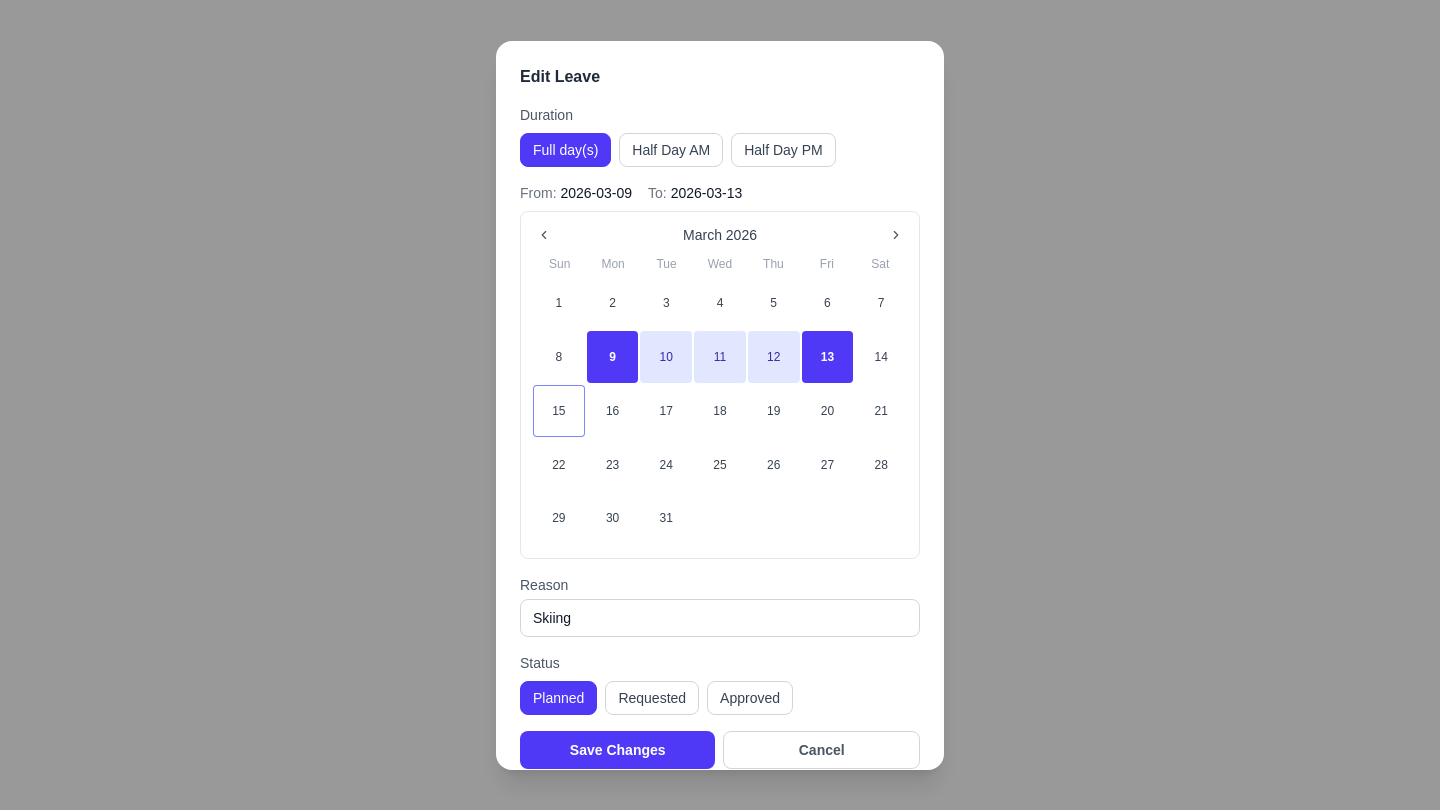
EditLeaveModal — allowance limit validation › shows the limit warning when editing an entry to be longer than the allowance permits
Click the button named "2026-03-16": (613, 411) [587,385,638,437]
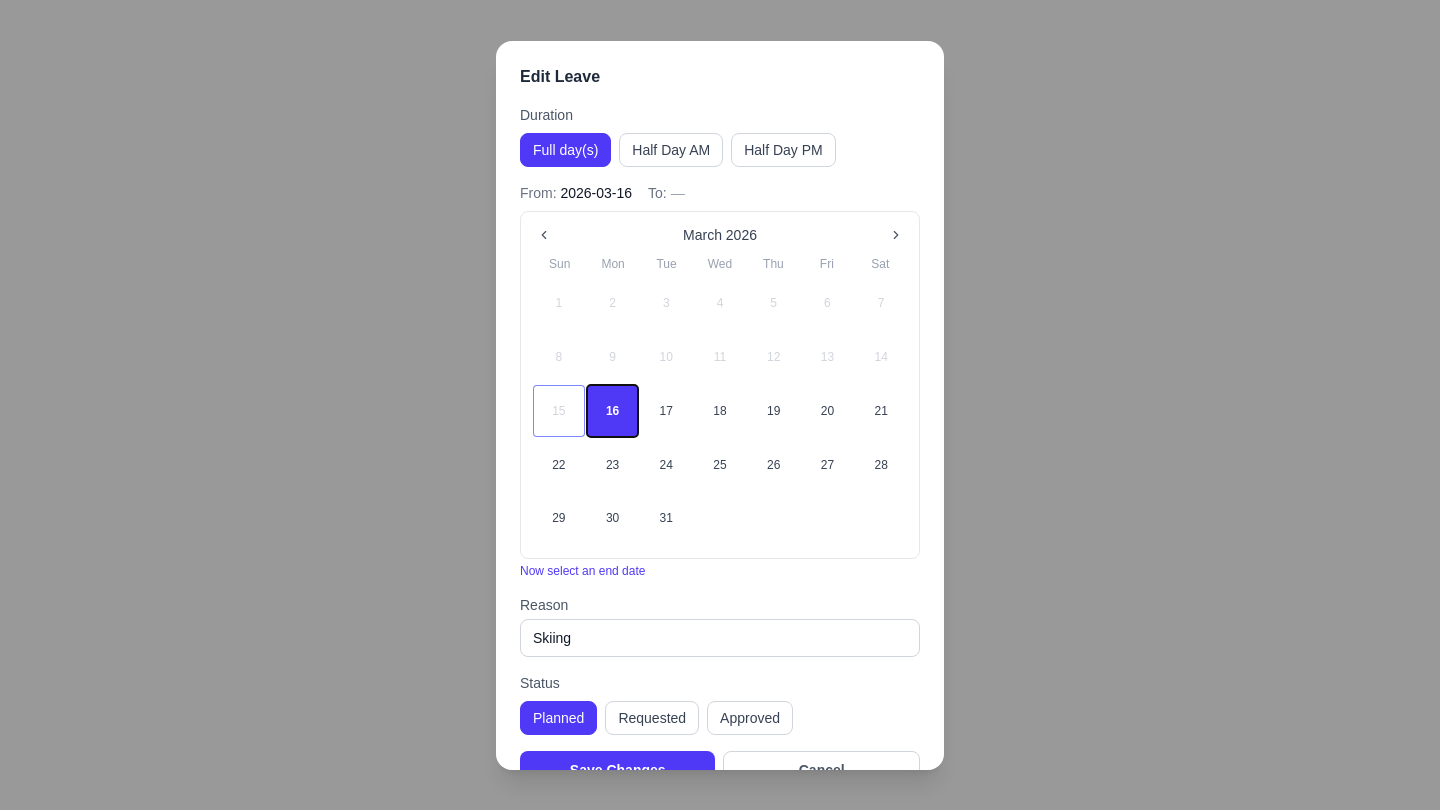
Click the button named "2026-03-27": (827, 465) [802,439,853,490]
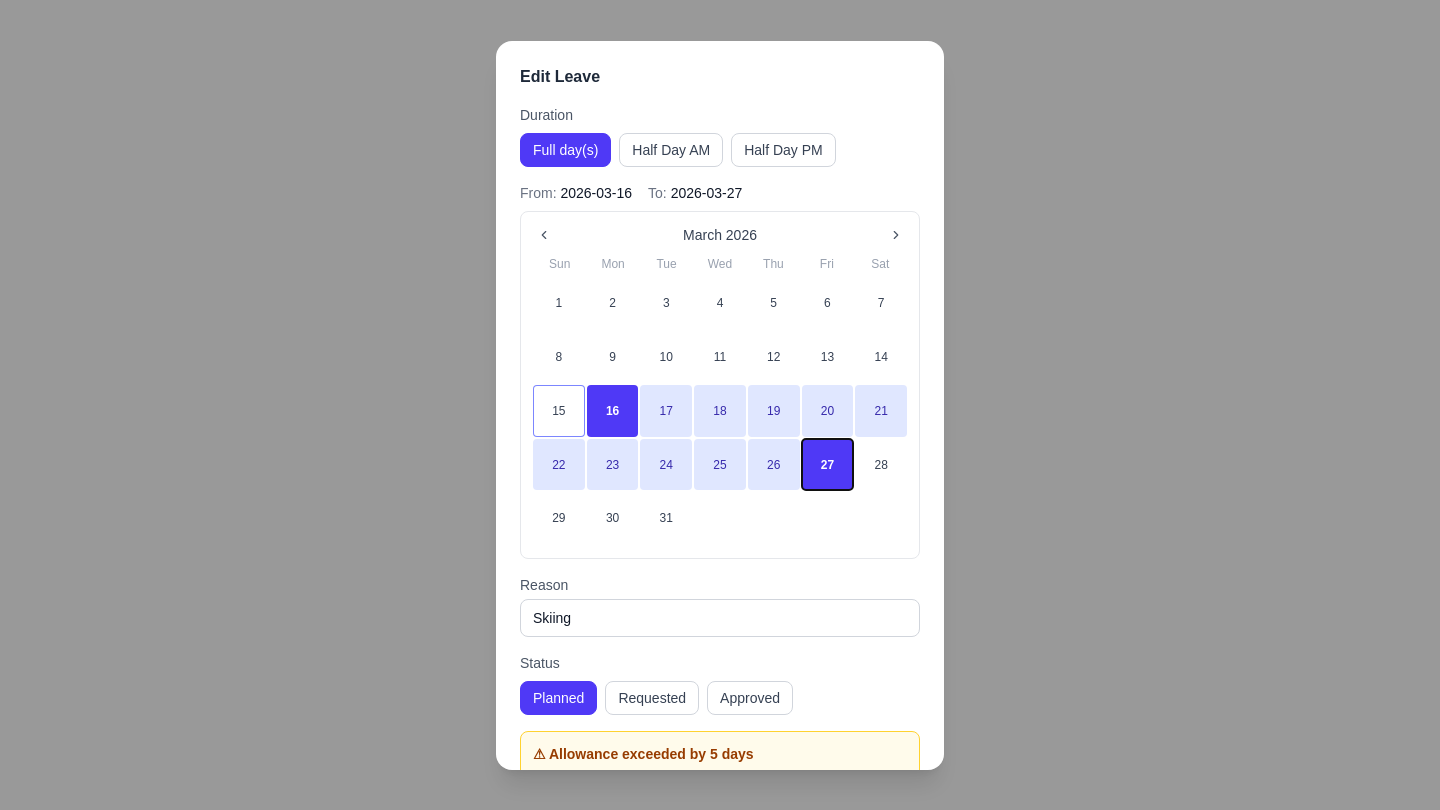
Now the text "⚠ Allowance exceeded by 5 days" is shown, box [533,746,754,762]
